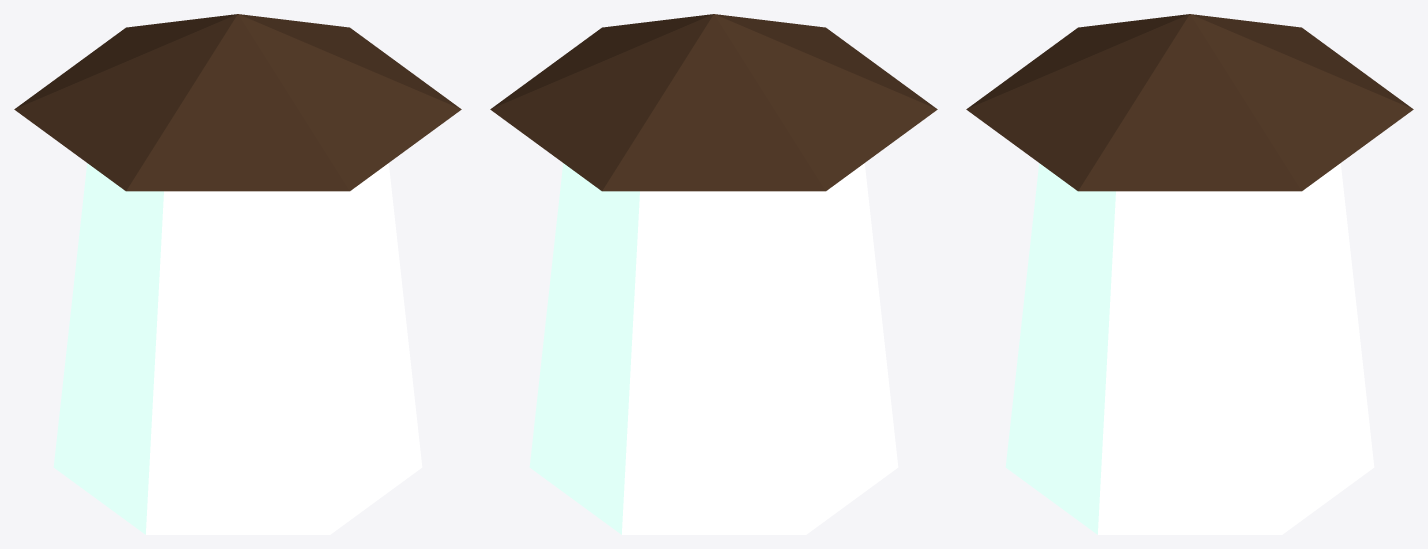
Rendered from prop_sick_lantern_lod1.glb.
The picture shows the model from 3 angles, left to right: view 1: azimuth 30°, elevation 25°; view 2: azimuth 150°, elevation 25°; view 3: azimuth 270°, elevation 25°; orthographic projection.
Parts seen in each view (by area): view 1: prop_sick_lantern_lod1; view 2: prop_sick_lantern_lod1; view 3: prop_sick_lantern_lod1.
Part boxes in pixels (x1,y1,x2,y2): prop_sick_lantern_lod1: (14, 14, 461, 534); prop_sick_lantern_lod1: (490, 14, 937, 534); prop_sick_lantern_lod1: (966, 14, 1413, 534).
Bounding box in the file's own units: 0.2944 × 0.38 × 0.34.
